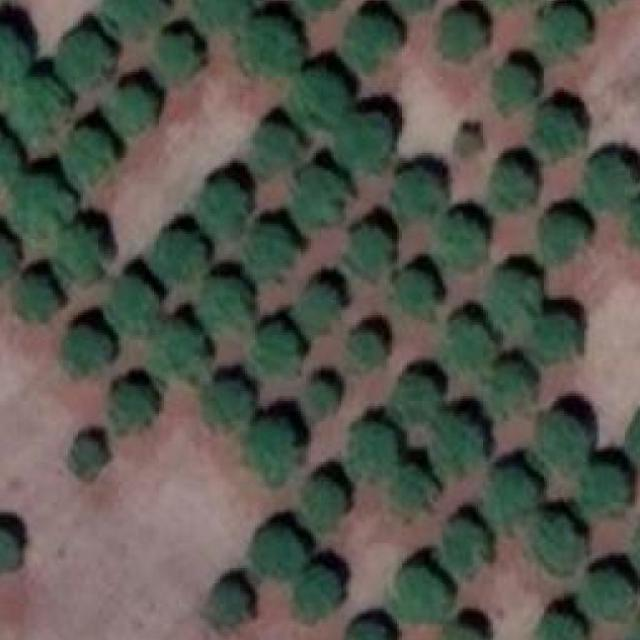Tree: (432, 204, 493, 272), (237, 14, 296, 80), (63, 32, 121, 90), (105, 272, 159, 334), (338, 110, 397, 166), (12, 75, 63, 139), (397, 571, 456, 625), (12, 173, 68, 229), (295, 163, 348, 222), (298, 67, 353, 122), (298, 472, 346, 533), (394, 161, 448, 215), (252, 526, 306, 579), (581, 568, 632, 624), (250, 419, 301, 475), (584, 150, 633, 208), (488, 459, 537, 517), (63, 222, 113, 277), (200, 381, 255, 431), (536, 107, 589, 158), (579, 462, 630, 515), (247, 123, 298, 176), (242, 224, 296, 274), (296, 563, 346, 617), (539, 411, 587, 467), (200, 178, 245, 237), (442, 313, 495, 363), (351, 419, 400, 473), (531, 308, 579, 363), (156, 227, 205, 280), (490, 256, 534, 315), (151, 323, 199, 377), (68, 128, 116, 181), (445, 518, 493, 571), (348, 14, 397, 65), (438, 9, 486, 60), (386, 267, 439, 313), (544, 211, 594, 259), (293, 285, 343, 333), (387, 464, 437, 512), (205, 275, 250, 328), (108, 381, 157, 429), (110, 82, 156, 133), (541, 6, 584, 60), (434, 411, 475, 467), (65, 323, 110, 374), (495, 163, 539, 214), (348, 226, 394, 274), (485, 361, 536, 404), (161, 24, 200, 78), (536, 518, 579, 566), (345, 330, 389, 376), (254, 325, 298, 369), (17, 274, 56, 323), (495, 62, 536, 105), (207, 583, 245, 629), (397, 376, 442, 414), (104, 0, 162, 26), (0, 24, 23, 85), (342, 618, 392, 640), (539, 615, 582, 640), (197, 0, 246, 21), (73, 436, 103, 470), (0, 128, 15, 192), (308, 381, 338, 411), (0, 229, 17, 279), (625, 409, 640, 460), (0, 528, 15, 573), (296, 0, 336, 16), (630, 199, 640, 249), (450, 626, 485, 640)
